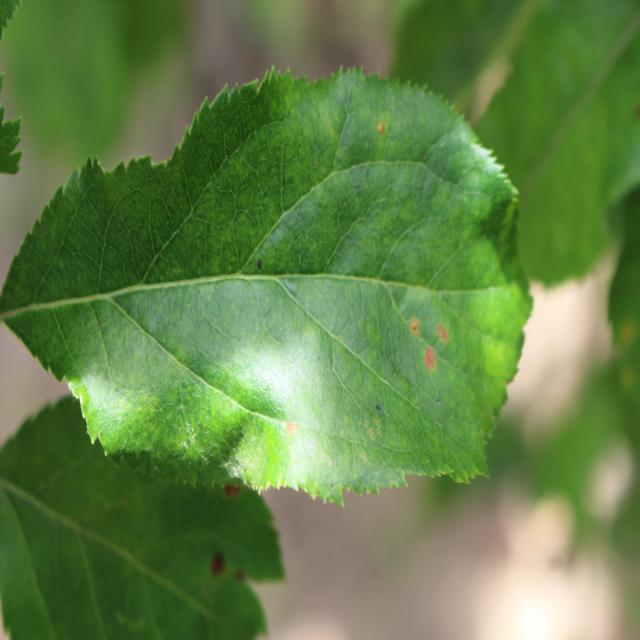Rust: (276, 406, 312, 463), (419, 332, 442, 385), (369, 106, 392, 154), (430, 319, 470, 346), (402, 308, 422, 346)
